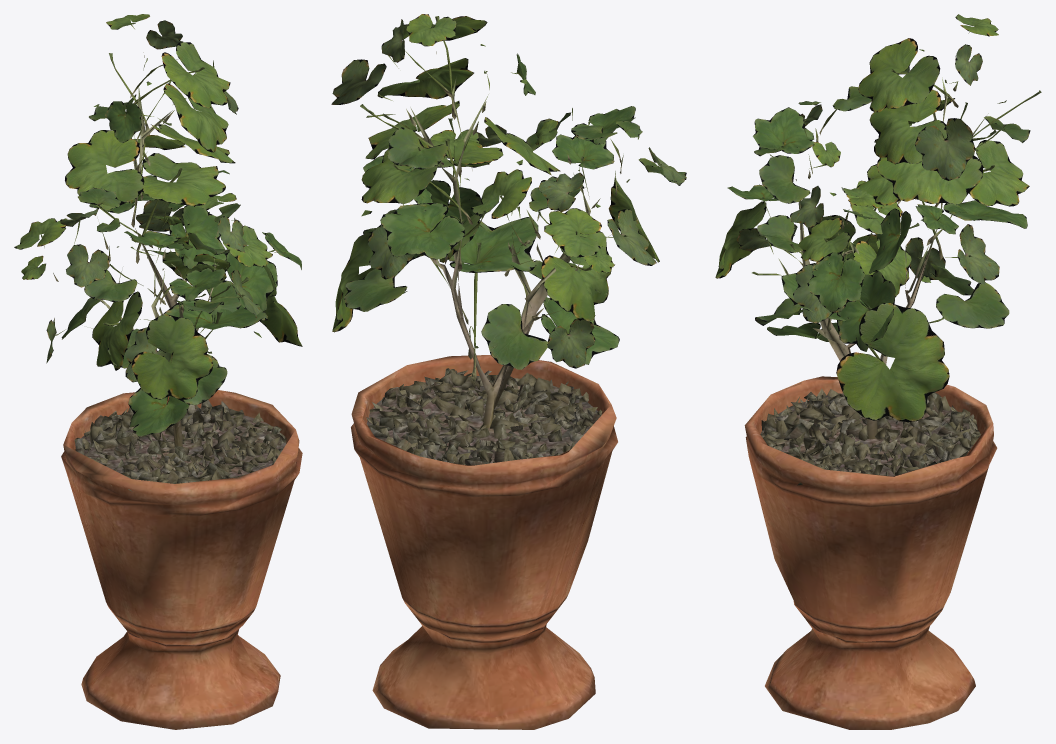
The model's file is jardiniere_plante_a_lod0.glb.
3 renders of one model, left to right at view 1: azimuth 30°, elevation 25°; view 2: azimuth 150°, elevation 25°; view 3: azimuth 270°, elevation 25°, orthographic. The views are drawn at different scales.
Visible parts, largest first — view 1: potted_plant_01_stem, potted_plant_01_leaves; view 2: potted_plant_01_stem, potted_plant_01_leaves; view 3: potted_plant_01_stem, potted_plant_01_leaves.
Part boxes in pixels (x1,y1,x2,y2): potted_plant_01_stem: [61, 87, 302, 729]; potted_plant_01_leaves: [14, 14, 302, 436]; potted_plant_01_stem: [351, 76, 617, 729]; potted_plant_01_leaves: [331, 14, 686, 382]; potted_plant_01_stem: [744, 77, 997, 729]; potted_plant_01_leaves: [715, 14, 1041, 422].
Bounding box in the file's own units: 0.5789 × 1.34 × 0.595.
Materials: 2 (2 with a texture image).
